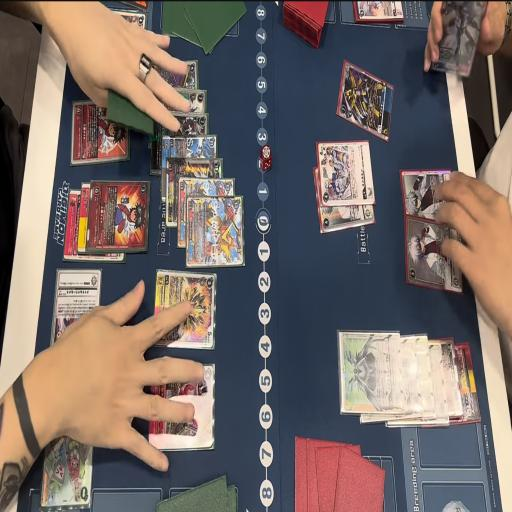card: (146, 364, 218, 457), (338, 328, 406, 418), (153, 268, 222, 348), (334, 58, 396, 147), (38, 412, 93, 512), (402, 212, 464, 298), (87, 180, 153, 256), (177, 174, 237, 252), (395, 165, 463, 232), (70, 96, 130, 167), (317, 136, 377, 206), (187, 196, 245, 268), (52, 268, 101, 352), (166, 161, 226, 229), (160, 136, 219, 204), (151, 114, 210, 178), (315, 188, 376, 236), (452, 338, 481, 428), (427, 332, 450, 432), (438, 336, 463, 425), (62, 186, 90, 262), (150, 60, 200, 100), (414, 331, 434, 431), (400, 329, 420, 422), (106, 9, 151, 42), (76, 179, 94, 260), (160, 87, 210, 114), (353, 0, 405, 24)
